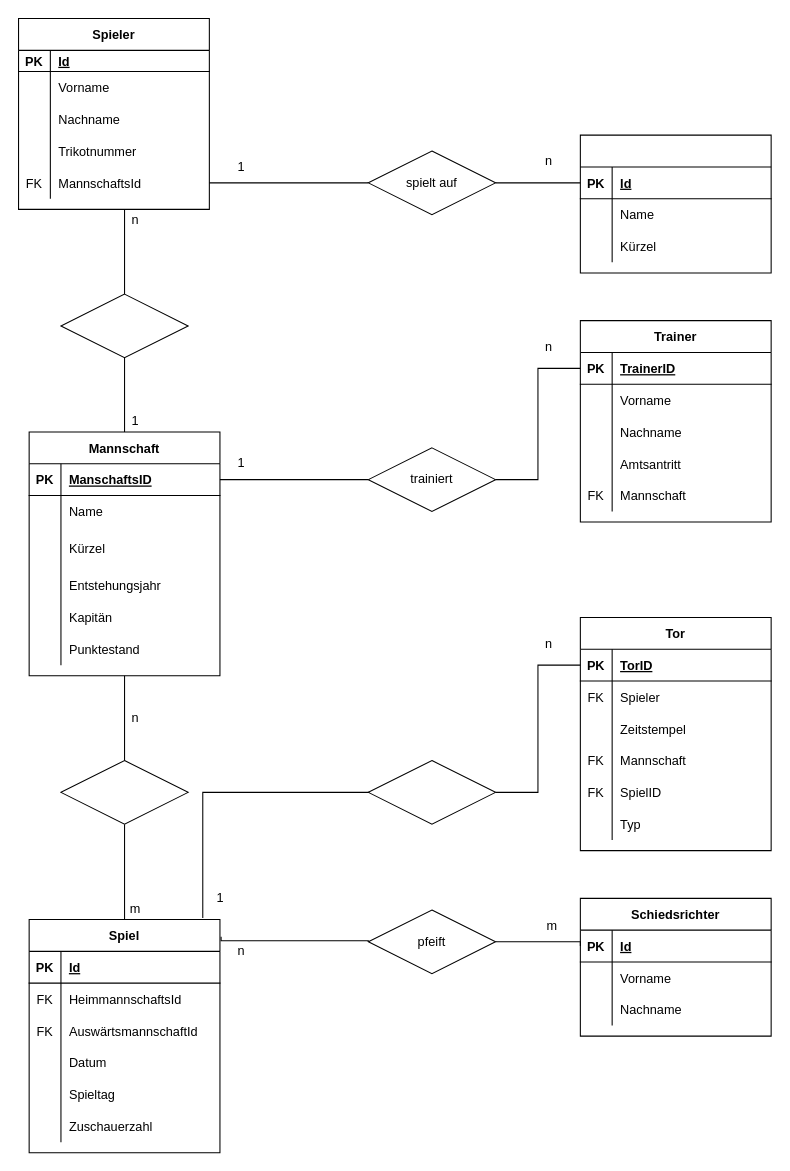
This 790x1171 diagram has some shape labels left out. The shapes that lost their labels are listed below. From the top down, each one's box as (x1, y1, x2, y2) in pixels, then its label:
(579, 134, 771, 273): Position
(60, 293, 188, 358): spielt für
(60, 759, 188, 824): spielt in
(367, 759, 496, 824): Trifft
